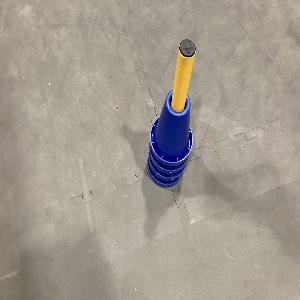Blue_4: (142, 86, 197, 191)
